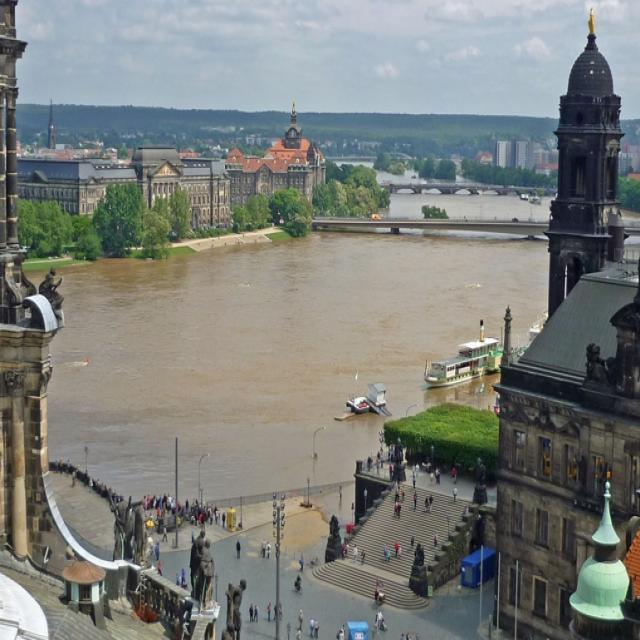flood: (49, 233, 548, 500), (393, 195, 550, 220), (377, 169, 476, 184)
house: (498, 272, 640, 636), (26, 158, 138, 214), (569, 558, 633, 636), (1, 548, 54, 640), (268, 104, 322, 192), (146, 158, 231, 210), (493, 142, 551, 173)
